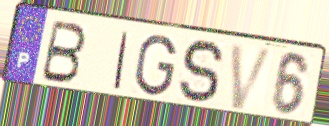6: (268, 51, 314, 118)
B: (38, 18, 88, 86)
G: (133, 33, 179, 98)
I: (111, 29, 131, 92)
S: (177, 38, 226, 106)
V: (228, 42, 276, 112)
